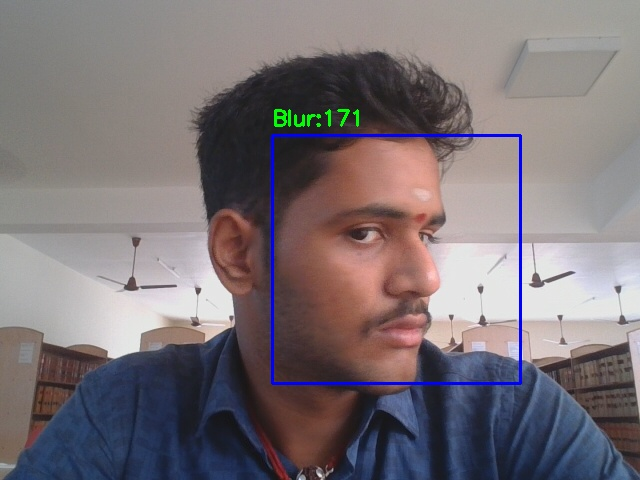real: (272, 135, 520, 383)
